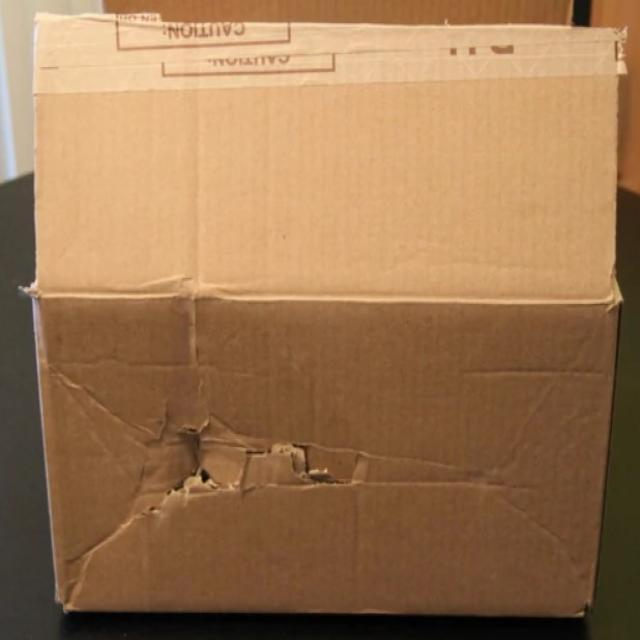box: (32, 13, 615, 620)
crushed: (39, 309, 169, 601), (350, 440, 507, 505)
opened: (121, 405, 340, 520)
